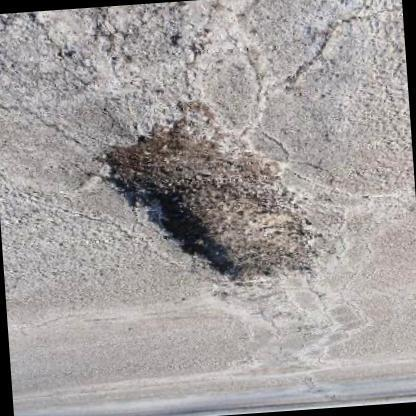pothole: (93, 92, 326, 296)
